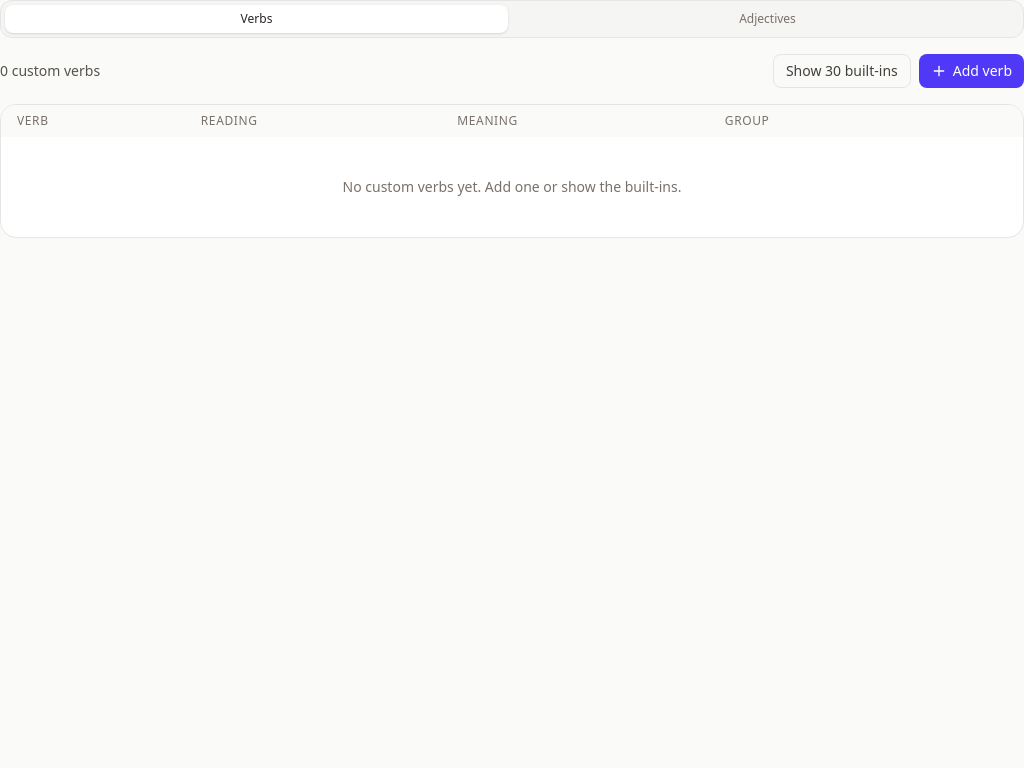
Test: CustomDictionaryViewSub suggestions › shows learner-added entries first and discloses built-ins on request
This screenshot has width=1024, height=768.
Expected: the text "No custom verbs yet. Add one or show the built-ins." is shown, [1,137,1023,237]
Expected: the text "食べる" is not shown
Click the button "Show 30 built-ins".
click(842, 71)  # box [773,54,911,88]
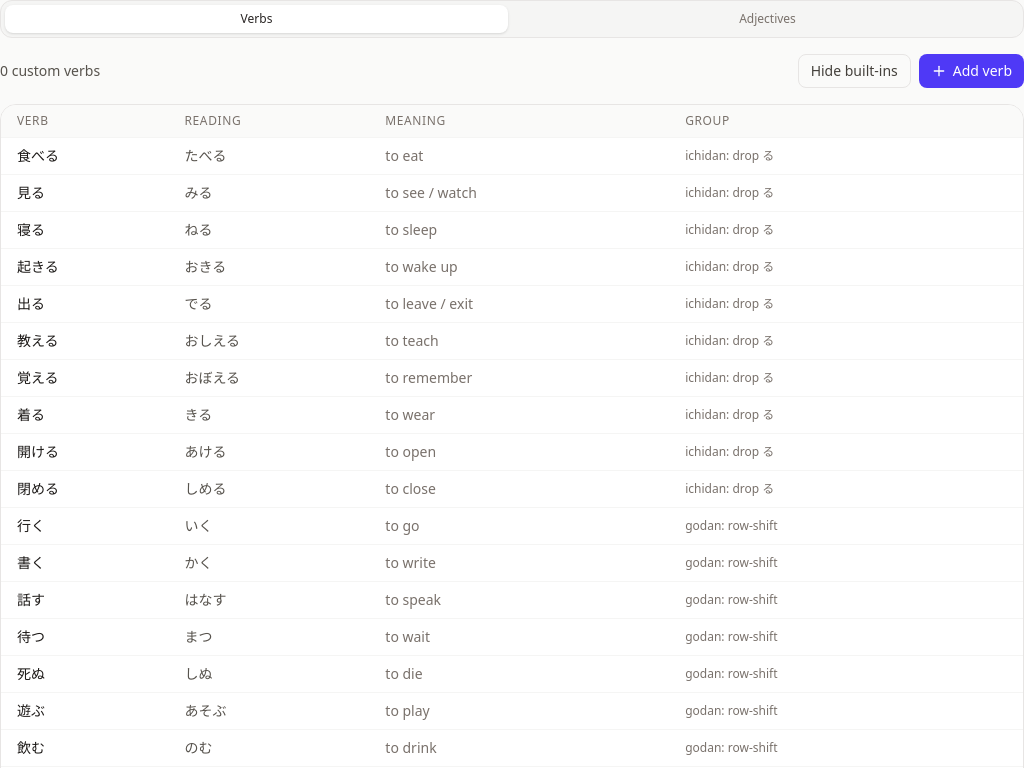
Expected: the text "食べる" is shown, [1,138,168,174]
Expected: the button "Hide built-ins" is shown, [798,54,911,88]
